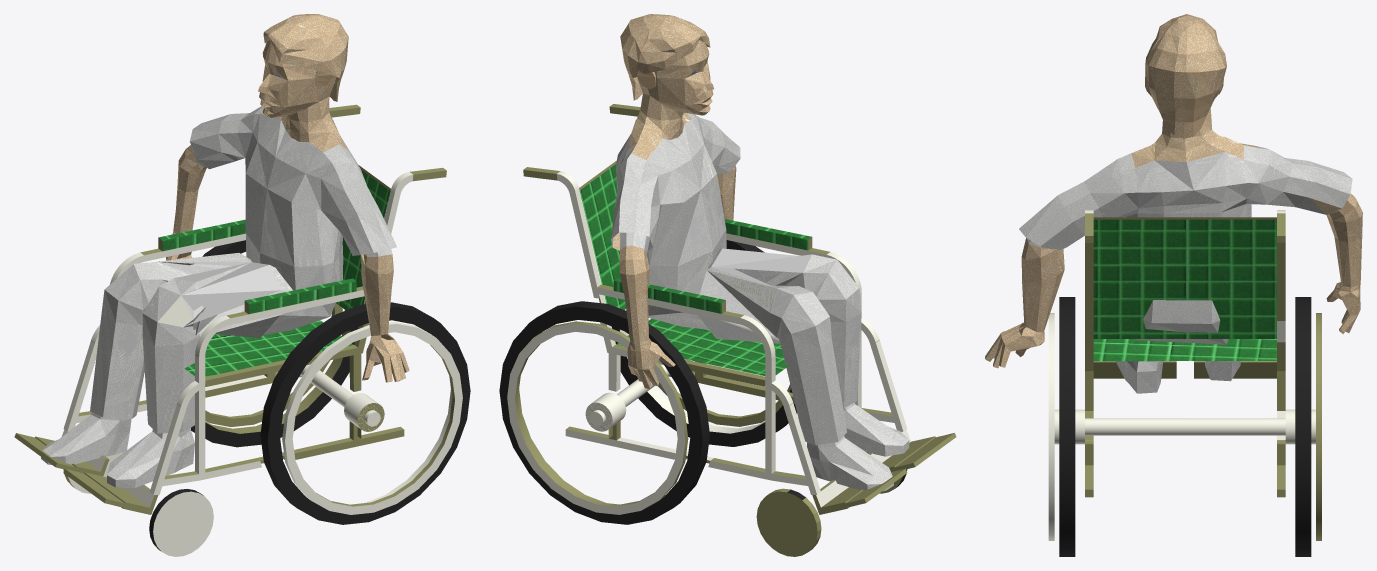
The model's file is wheelchairwm.dae.
The picture shows the model from 3 angles, left to right: view 1: azimuth 30°, elevation 25°; view 2: azimuth 150°, elevation 25°; view 3: azimuth 270°, elevation 25°; orthographic projection. The views are drawn at different scales.
Parts seen in each view (by area): view 1: SketchUp (×28); view 2: SketchUp (×30); view 3: SketchUp (×23).
Part boxes in pixels (left/top/right/bottom): SketchUp (×28): left=14, top=14, right=470, bottom=556; SketchUp (×30): left=499, top=14, right=956, bottom=556; SketchUp (×23): left=985, top=14, right=1362, bottom=556.
Size of the model in its own units: 41.22 by 34.16 by 51.64.
7 materials, 1 textured.
